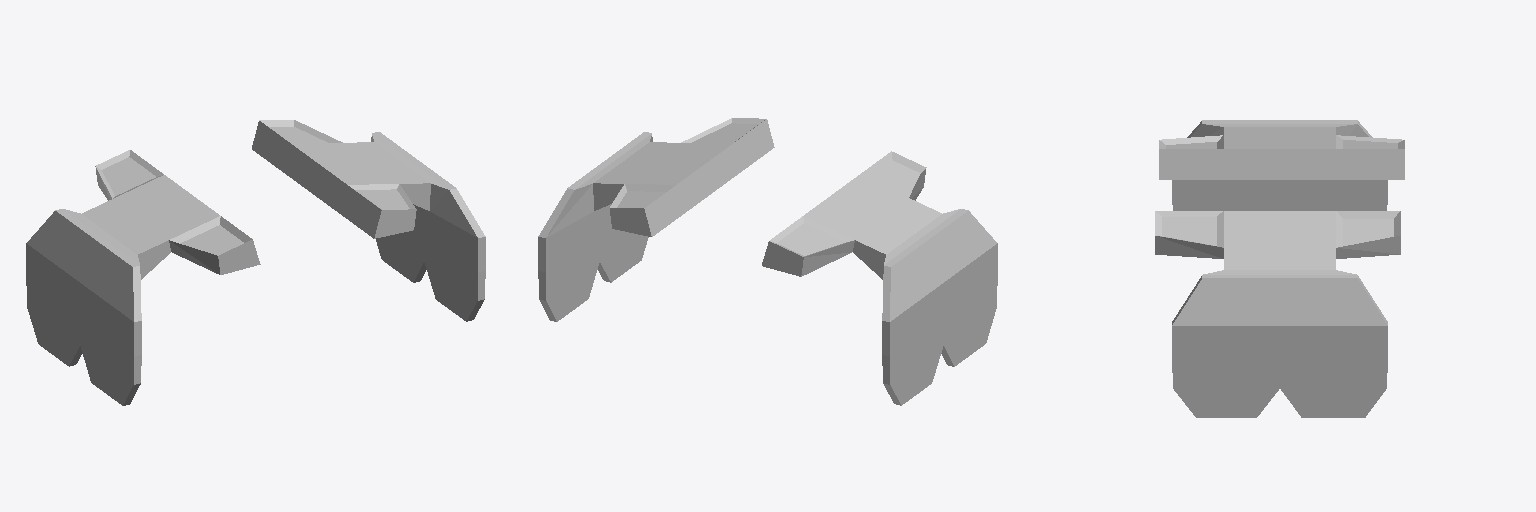
Rendered from MVRacks.obj.
3 views of the same model, side by side, from view 1: azimuth 30°, elevation 25°; view 2: azimuth 150°, elevation 25°; view 3: azimuth 270°, elevation 25° (orthographic).
Bounding box in the file's own units: 12.46 × 5.17 × 7.67.